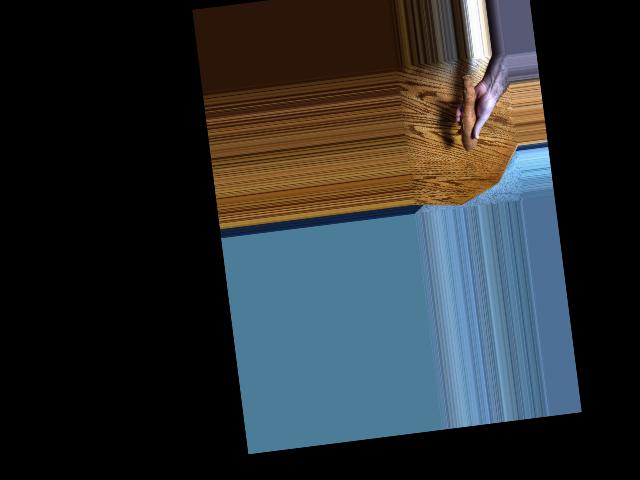sweet_potato: (453, 72, 487, 156)
